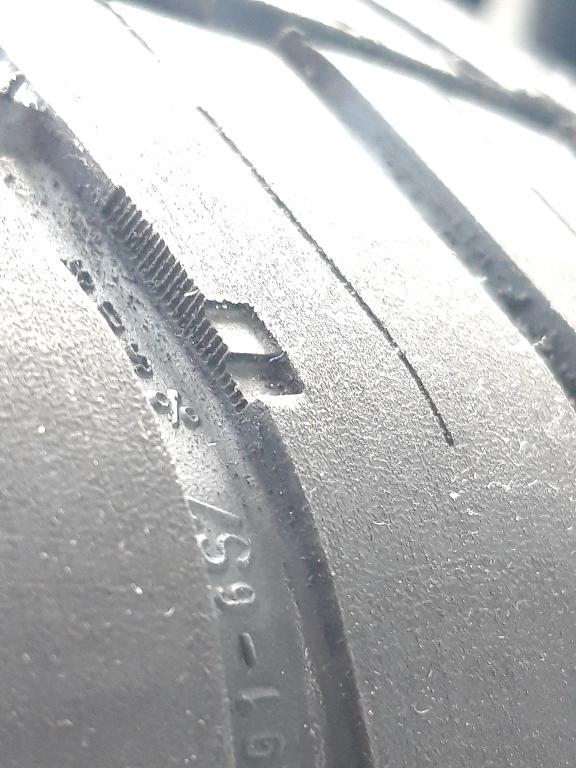temoin:25: (181, 294, 313, 425)
